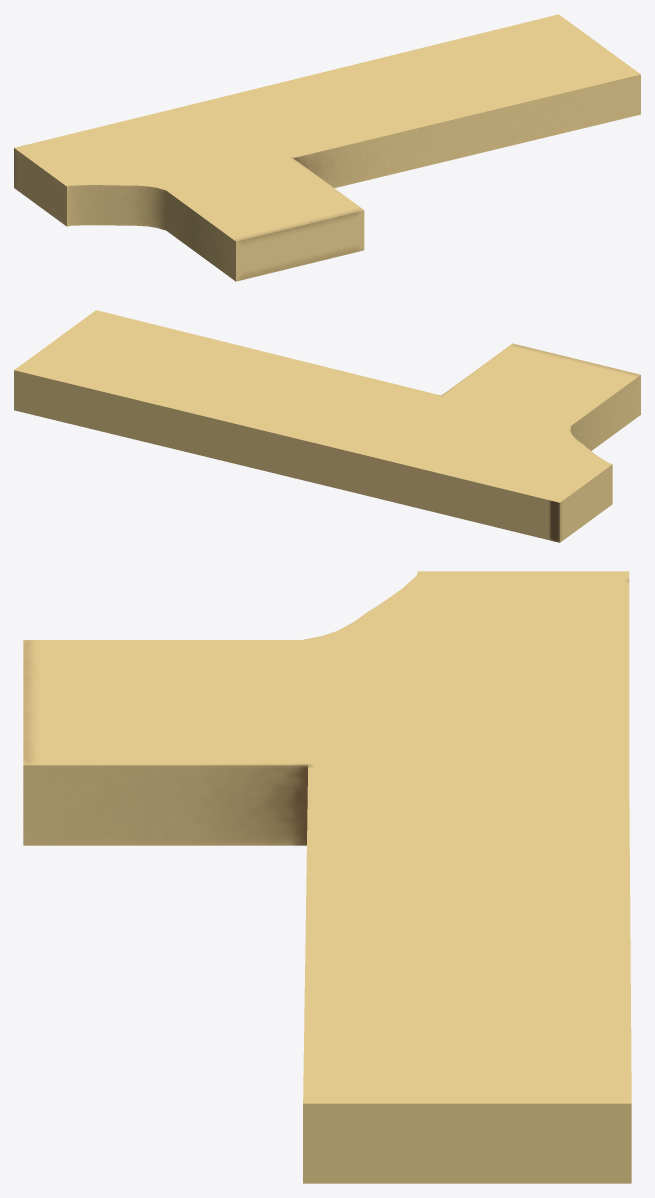
Rendered from 1_Gold.glb.
The picture shows the model from 3 angles, top to bottom: view 1: azimuth 30°, elevation 25°; view 2: azimuth 150°, elevation 25°; view 3: azimuth 270°, elevation 25°; orthographic projection. The views are drawn at different scales.
Visible parts, largest first — view 1: 1*; view 2: 1*; view 3: 1*.
Part boxes in pixels (left/top/right/bottom): 1*: left=14, top=14, right=640, bottom=281; 1*: left=14, top=310, right=640, bottom=542; 1*: left=23, top=571, right=631, bottom=1183.
Size of the model in its own units: 0.5378 by 0.0378 by 0.2599.
Materials: 1 (1 with a texture image).
